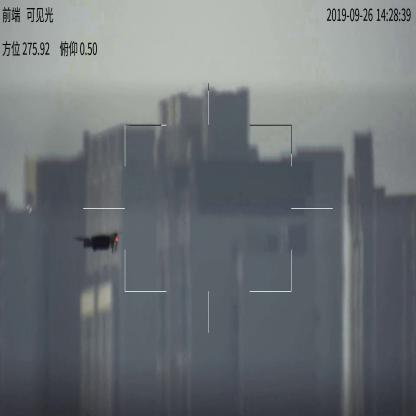uav: (73, 231, 125, 252)
